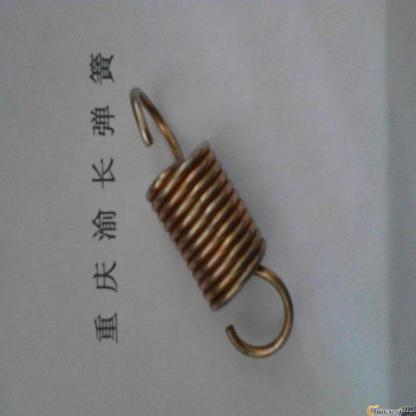FOD: (127, 84, 296, 360)
